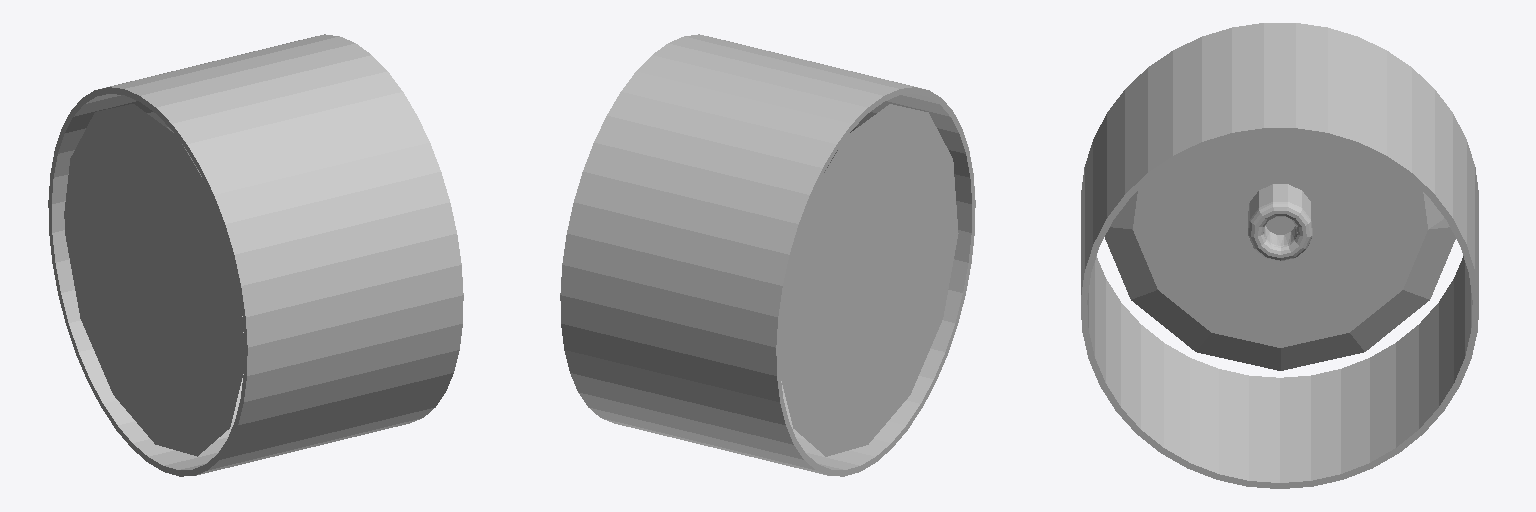
Rendered from Rad-rechts-hinten.obj.
The picture shows the model from 3 angles: view 1: azimuth 30°, elevation 25°; view 2: azimuth 150°, elevation 25°; view 3: azimuth 270°, elevation 25°; orthographic projection.
Visible parts, largest first — view 1: Frontspoiler_4.4.4_-_Abweiser_konvex.003_Frontspoiler_4.4.4_-_Ab, Radkappe_-_10_mm; view 2: Frontspoiler_4.4.4_-_Abweiser_konvex.003_Frontspoiler_4.4.4_-_Ab, Radkappe_-_10_mm; view 3: Frontspoiler_4.4.4_-_Abweiser_konvex.003_Frontspoiler_4.4.4_-_Ab, Radkappe_-_10_mm.
Part boxes in pixels (bbox=[...]): Frontspoiler_4.4.4_-_Abweiser_konvex.003_Frontspoiler_4.4.4_-_Ab: bbox=[48, 34, 463, 476]; Radkappe_-_10_mm: bbox=[64, 104, 243, 456]; Frontspoiler_4.4.4_-_Abweiser_konvex.003_Frontspoiler_4.4.4_-_Ab: bbox=[560, 34, 975, 476]; Radkappe_-_10_mm: bbox=[780, 104, 958, 456]; Frontspoiler_4.4.4_-_Abweiser_konvex.003_Frontspoiler_4.4.4_-_Ab: bbox=[1081, 23, 1478, 488]; Radkappe_-_10_mm: bbox=[1105, 134, 1455, 370].
Size of the model in its own units: 0.2028 by 0.3239 by 0.3242.